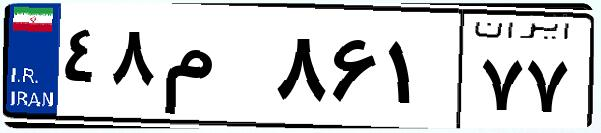1: (385, 28, 445, 110)
4: (57, 26, 110, 100)
6: (330, 28, 385, 110)
7: (475, 38, 525, 113), (525, 38, 570, 115)
8: (270, 28, 330, 110), (110, 28, 158, 98)
م: (158, 20, 270, 120)
